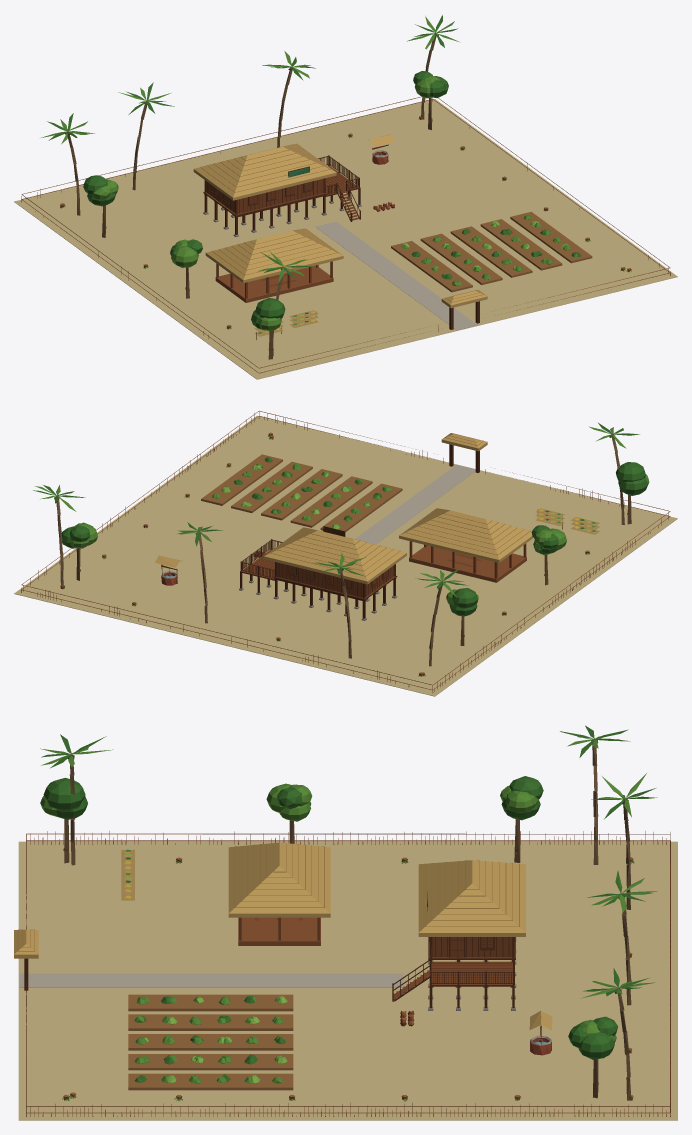
Rendered from hospital.glb.
The picture shows the model from 3 angles, top to bottom: view 1: azimuth 30°, elevation 25°; view 2: azimuth 150°, elevation 25°; view 3: azimuth 270°, elevation 25°; orthographic projection. The views are drawn at different scales.
Parts seen in each view (by area): view 1: body; view 2: body; view 3: body.
Part boxes in pixels (<box>): body: <box>14,15,677,379</box>; body: <box>14,411,677,696</box>; body: <box>14,725,677,1120</box>.
Bounding box in the file's own units: 47.95 × 10.8 × 48.25.
